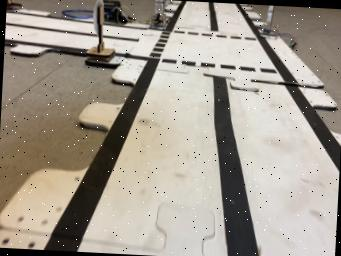street: (38, 0, 340, 256), (5, 7, 94, 48)
traffic_light: (261, 5, 280, 38), (149, 0, 167, 25)
